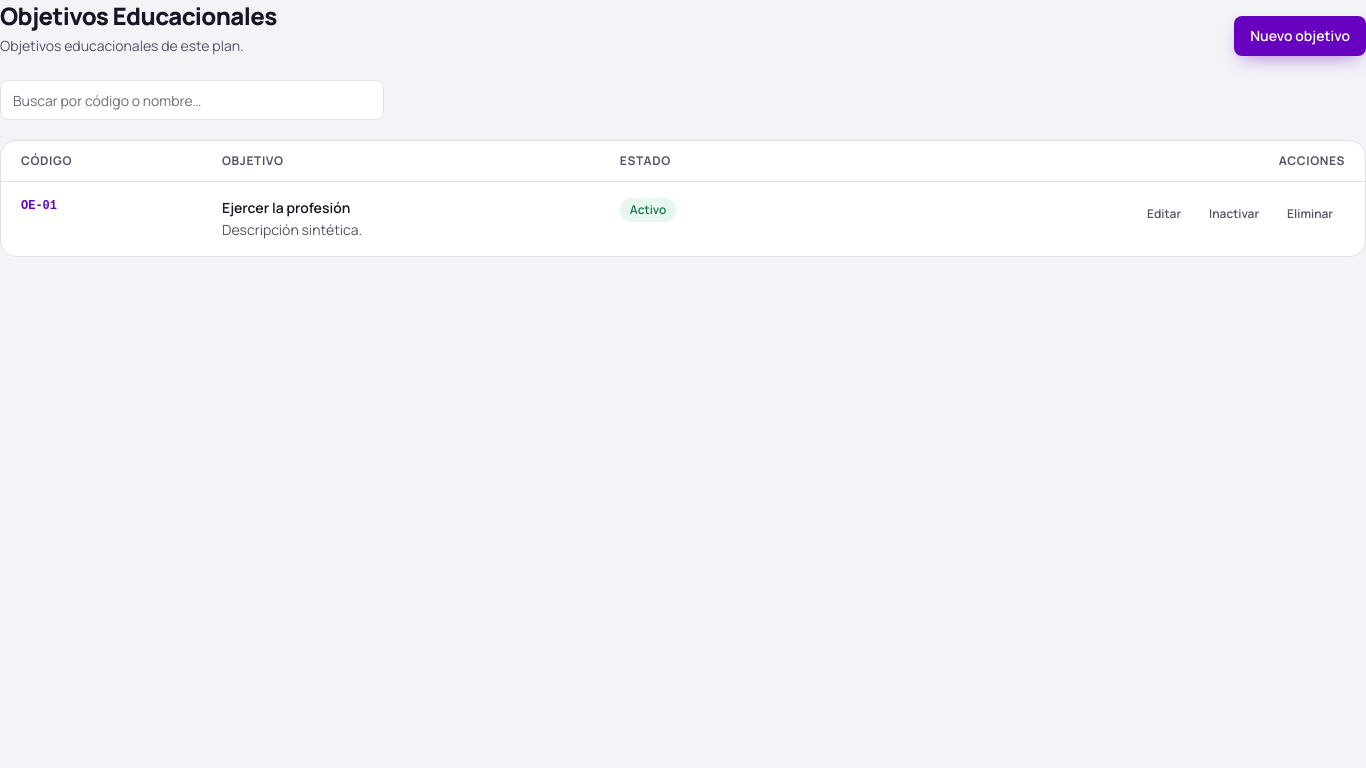
Test: ObjetivosPage — eliminar del plan (RF-CH-016) › si el servidor lo rechaza, muestra su motivo
Click the button "Eliminar" at (1310, 214), box [1275,198,1345,230]
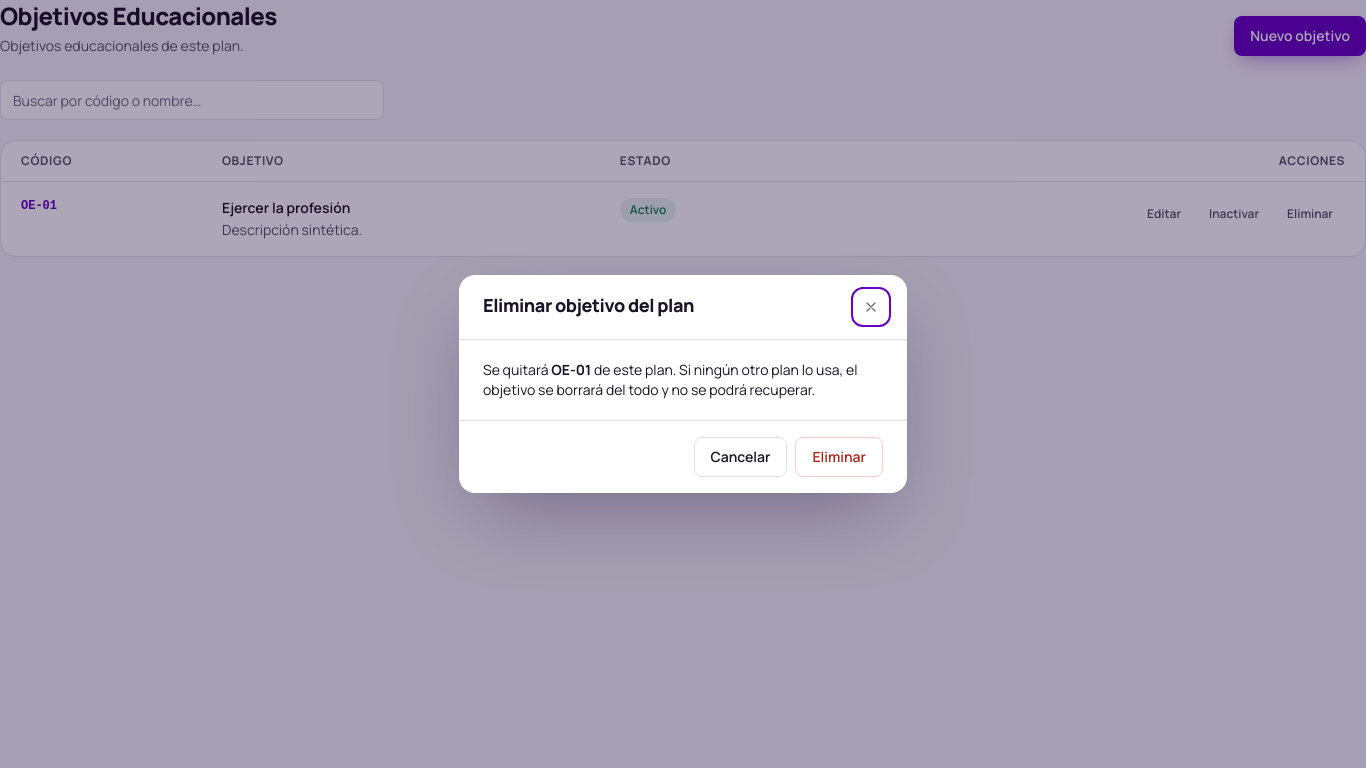
Click the button "Eliminar" at (839, 457), box [795,437,883,477]
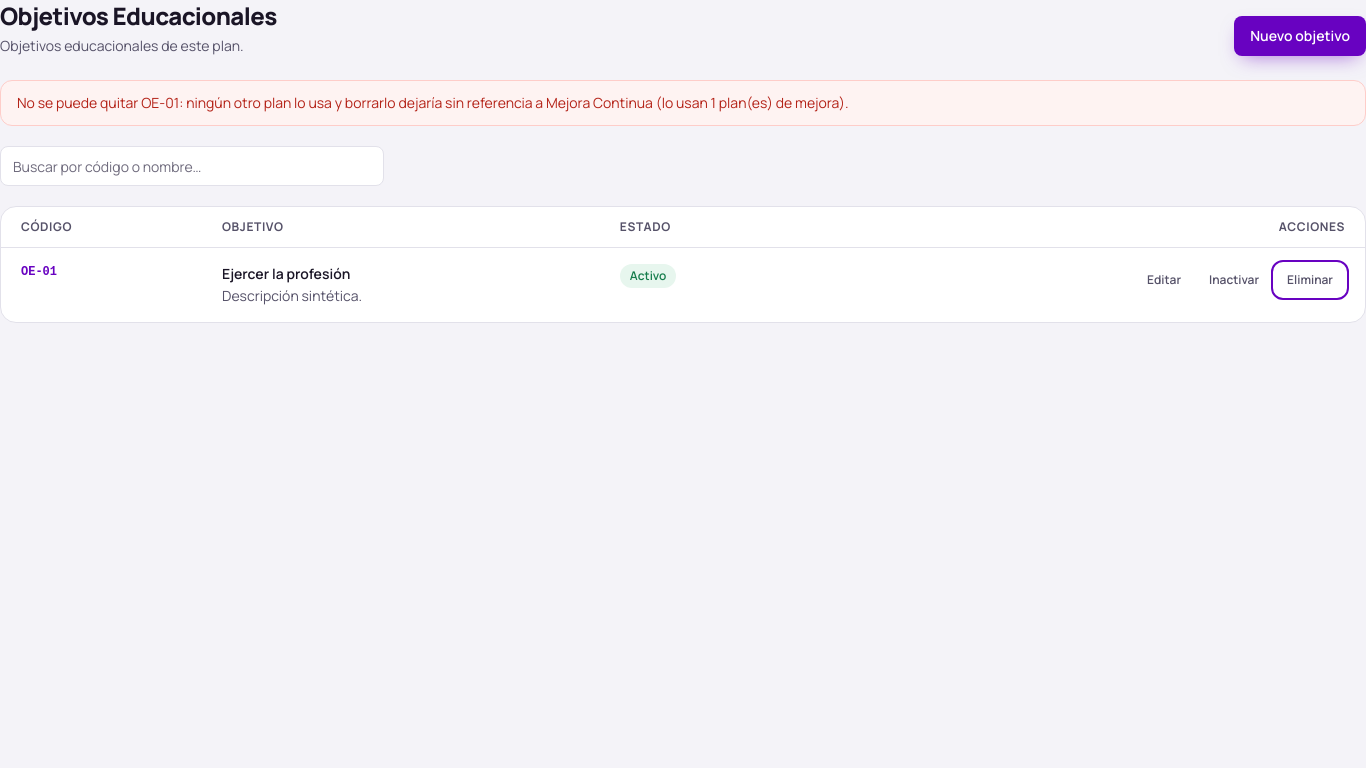
Result: the text "lo usan 1 plan(es) de mejora" is shown at [17,93,849,112]
